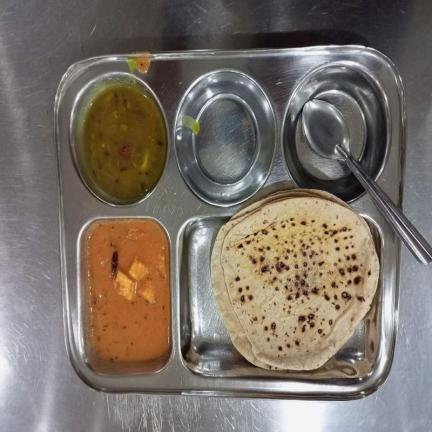Dal: (82, 86, 165, 201)
Paneer: (86, 218, 172, 363)
Plate: (54, 45, 408, 402)
Roti: (209, 189, 380, 369)
